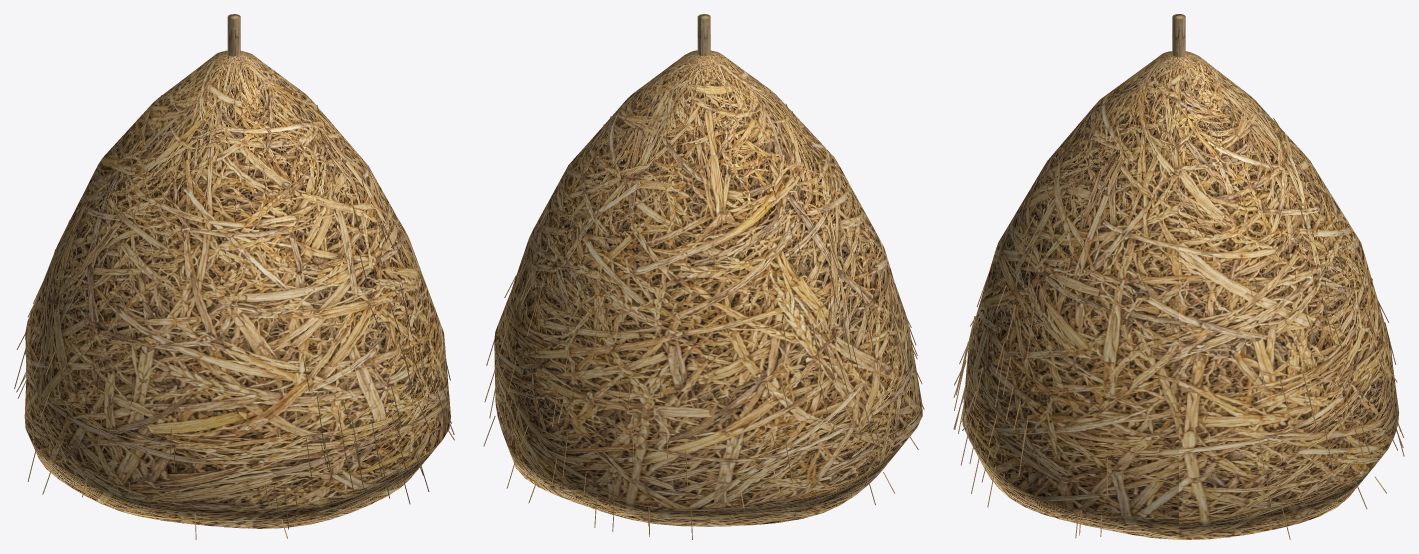
Rendered from prop_haystack.glb.
3 views of the same model, side by side, from view 1: azimuth 30°, elevation 25°; view 2: azimuth 150°, elevation 25°; view 3: azimuth 270°, elevation 25° (orthographic). The views are drawn at different scales.
Parts seen in each view (by area): view 1: prop_haystack; view 2: prop_haystack; view 3: prop_haystack.
Boxes of the visible parts, <box> form: prop_haystack: <box>14,14,454,539</box>; prop_haystack: <box>483,14,924,539</box>; prop_haystack: <box>953,14,1404,539</box>.
Size of the model in its own units: 2.31 by 2.5 by 2.32.
2 materials, 2 textured.
